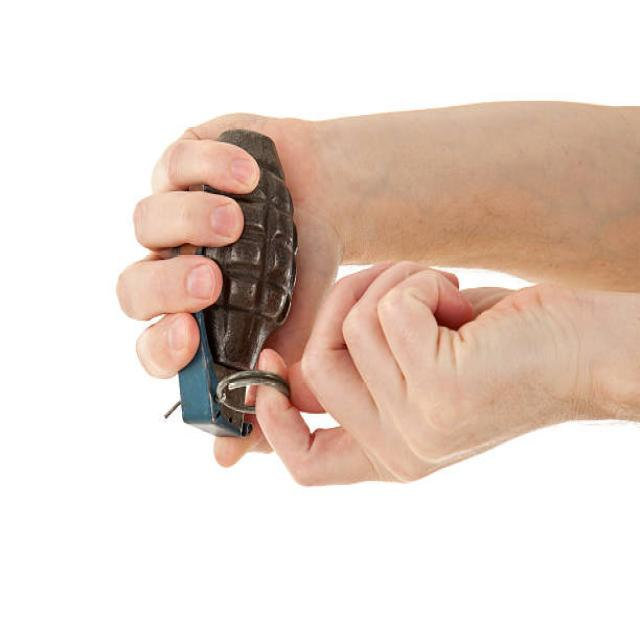grenade: (173, 125, 300, 444)
